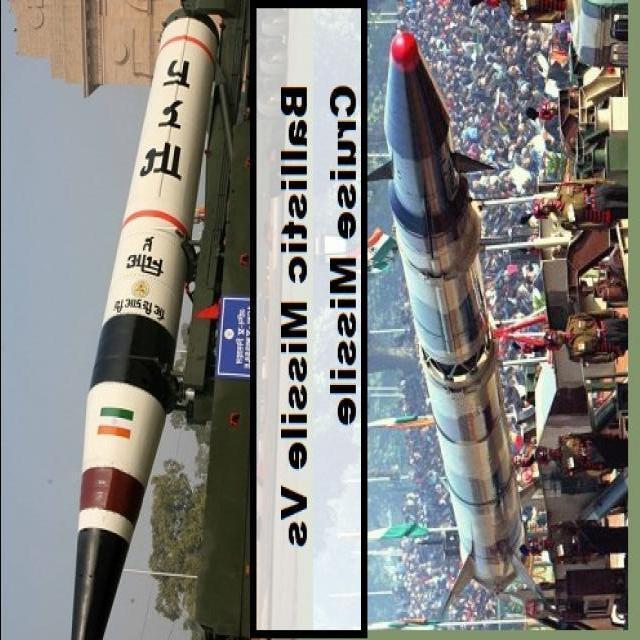Missile: (59, 15, 214, 640), (374, 34, 520, 607)
